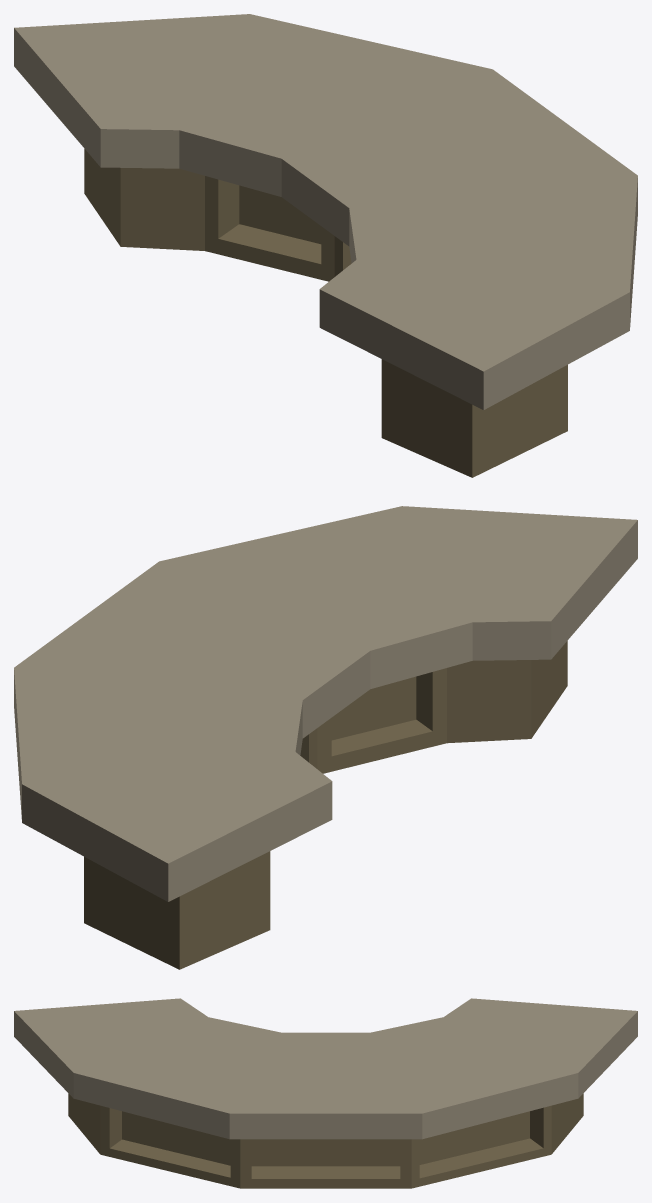
The model's file is table.fbx.
3 renders of one model, top to bottom at view 1: azimuth 30°, elevation 25°; view 2: azimuth 150°, elevation 25°; view 3: azimuth 270°, elevation 25°, orthographic. The views are drawn at different scales.
Parts seen in each view (by area): view 1: table; view 2: table; view 3: table.
Boxes of the visible parts, <box> form: table: <box>14,14,637,477</box>; table: <box>14,506,637,969</box>; table: <box>14,998,637,1188</box>.
Size of the model in its own units: 2.31 by 0.8908 by 5.28.
